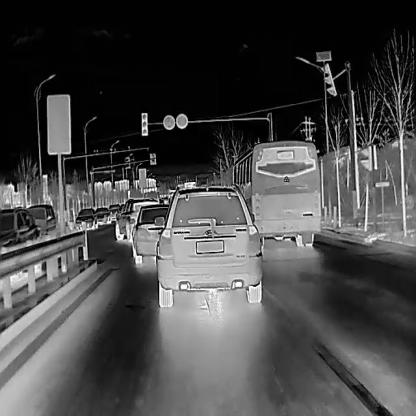bus: (231, 139, 318, 246)
car: (154, 184, 260, 307), (131, 206, 169, 264), (0, 206, 40, 259), (114, 197, 158, 242), (24, 202, 56, 242), (73, 207, 97, 231), (95, 205, 111, 225)
